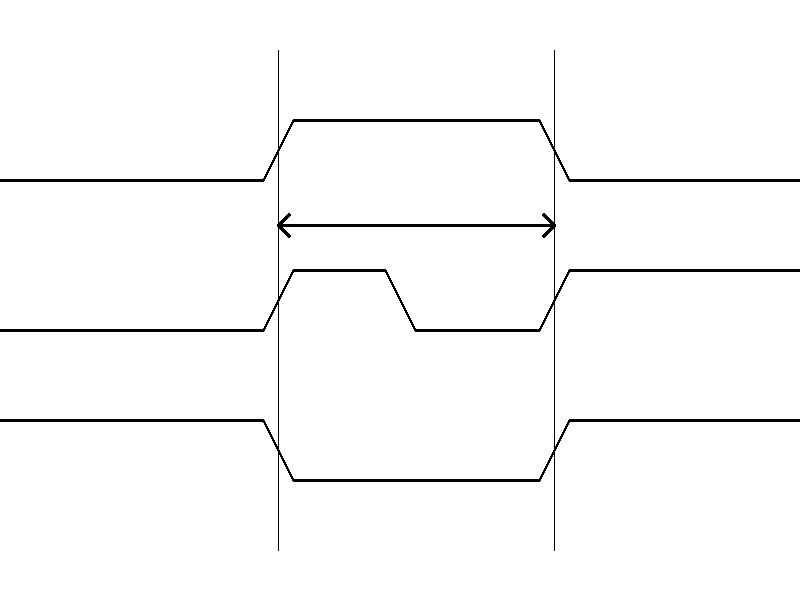double_arrow: (278, 210, 554, 240)
